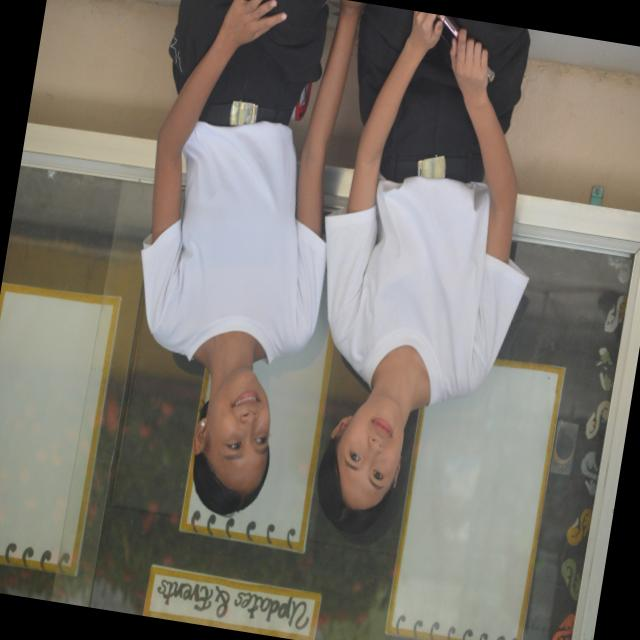person: (141, 0, 361, 514), (317, 4, 529, 532)
